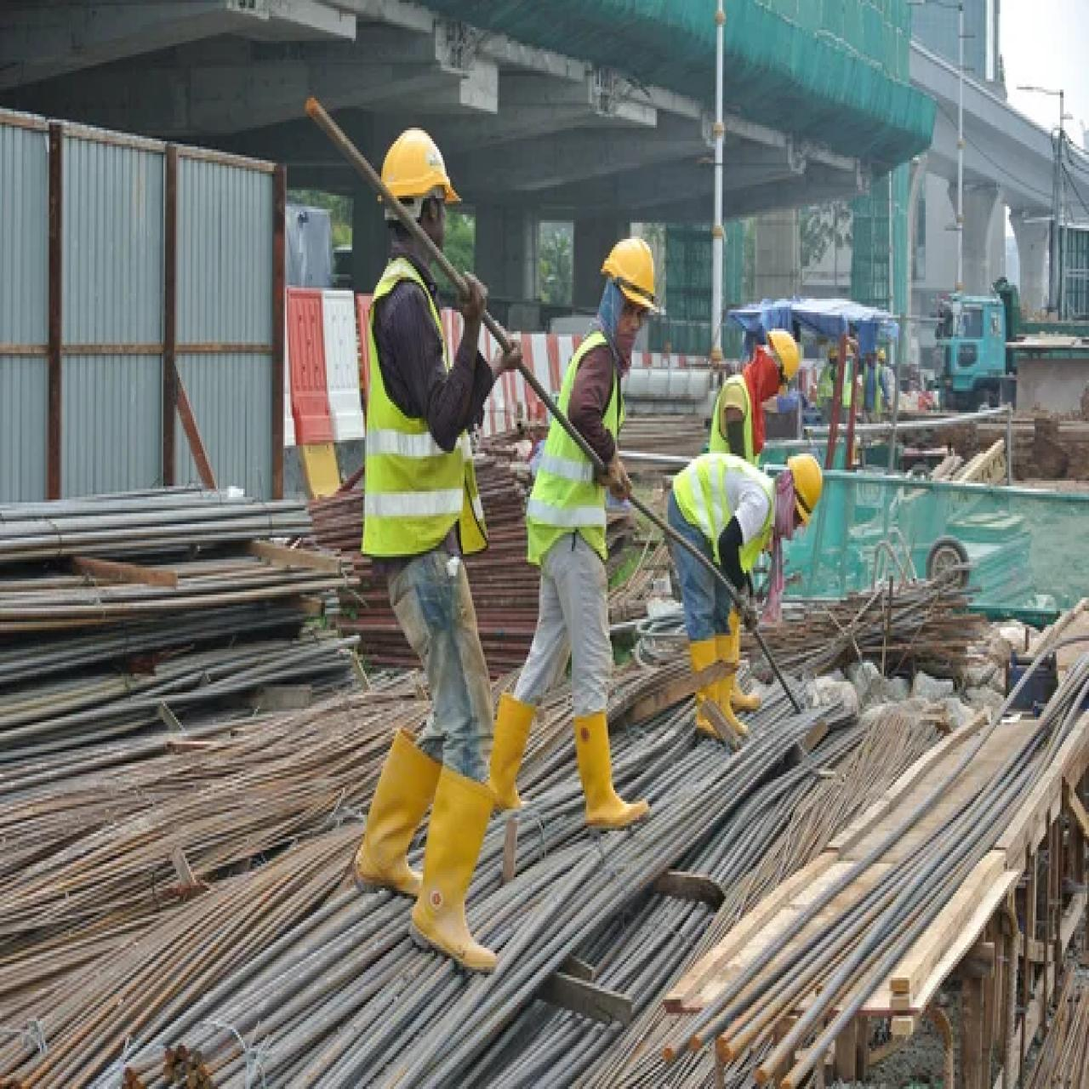Person: (332, 97, 524, 992), (490, 208, 669, 837), (697, 312, 814, 716), (670, 446, 814, 744), (815, 345, 847, 418), (862, 346, 894, 415)
Safety_Vest: (357, 252, 490, 580), (517, 322, 630, 586), (674, 453, 772, 571), (711, 370, 769, 475)
